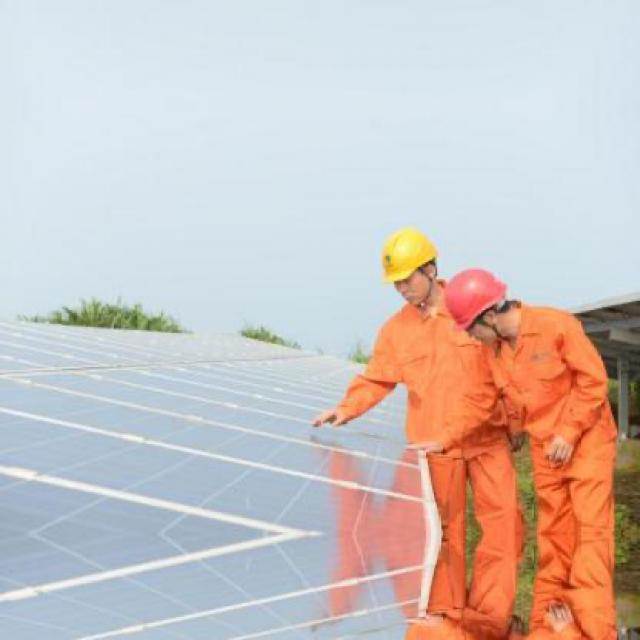Reflective-Jacket: (360, 296, 495, 453), (489, 299, 620, 449)
Safety-Helmet: (365, 219, 446, 290), (435, 264, 514, 336)
